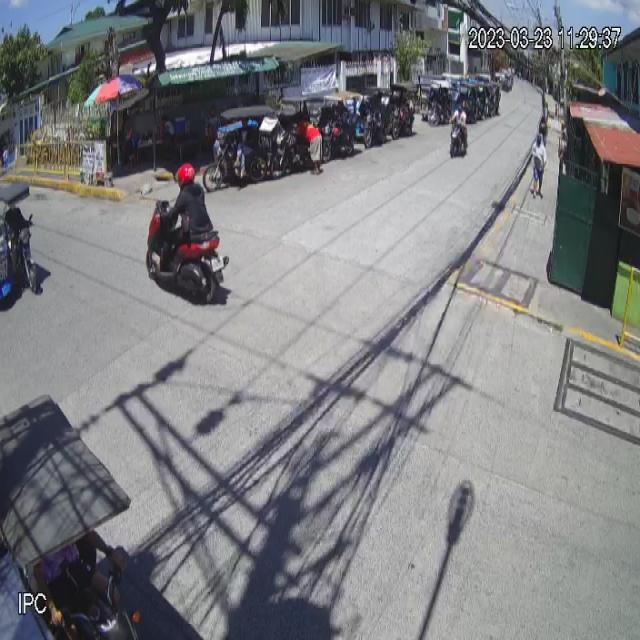Motorcycle: (146, 196, 230, 306)
